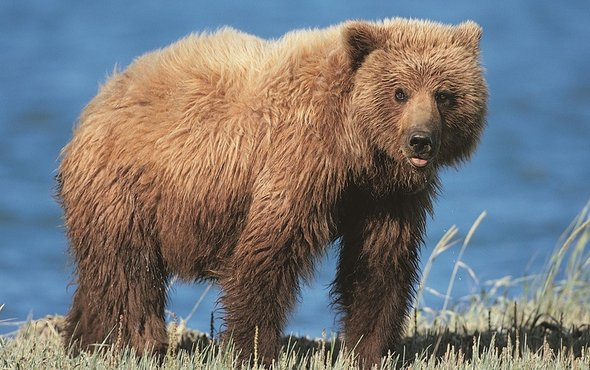bear: (335, 14, 489, 175)
